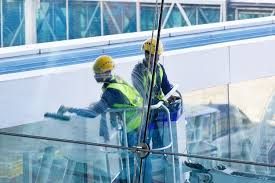helmet: (145, 38, 165, 57), (96, 56, 114, 74)
vest: (106, 84, 142, 126), (136, 67, 169, 112)
